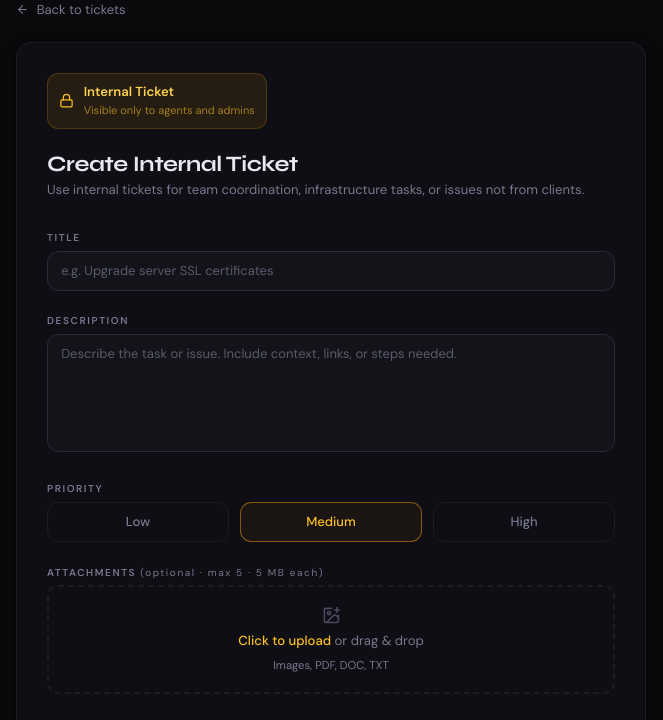
Test: InternalTicketPage — validation › shows 'Please provide more detail' for short description
The image size is (663, 720).
Type "Valid title here" into the field with placeholder "e.g. Upgrade server SSL certificates" at {"x": 331, "y": 271}, box 47,251 -> 615,291
(page scrolled)
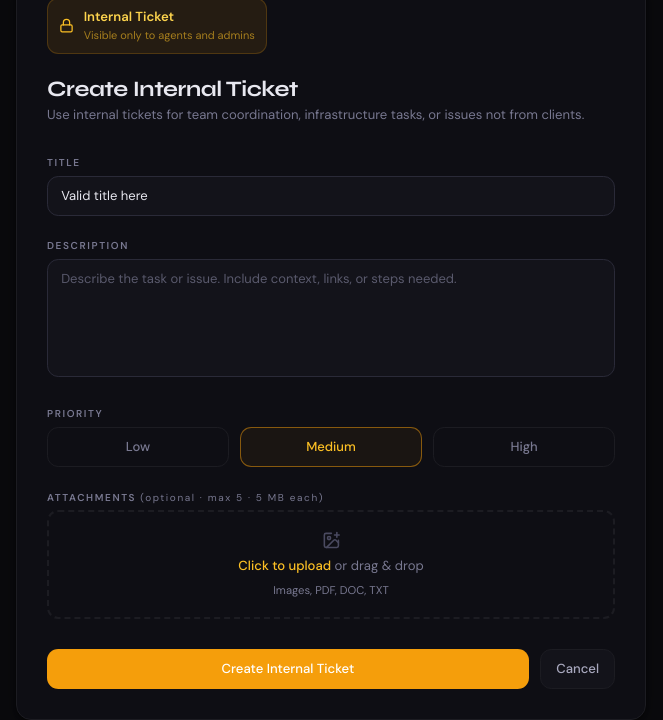
Click the button "Create Internal Ticket" at {"x": 288, "y": 669}, box 47,649 -> 529,689
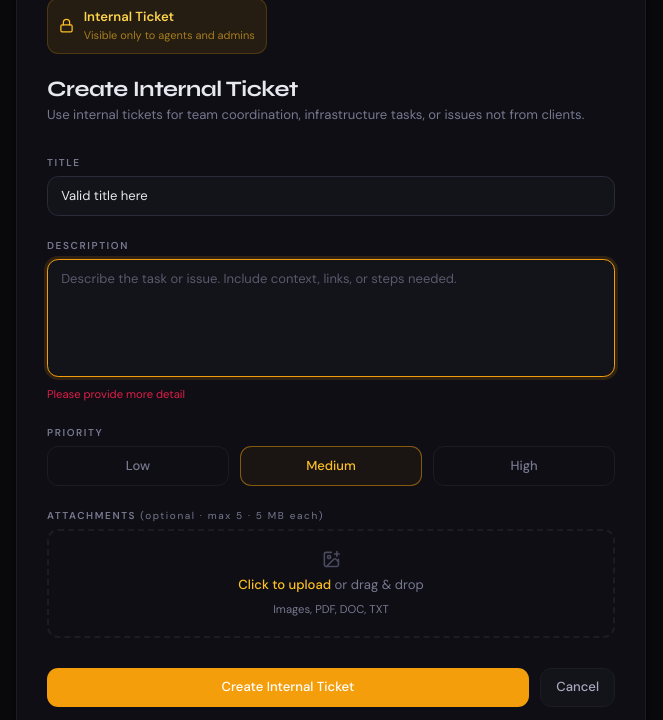
Expected: the text "Please provide more detail" is shown, 47,388 -> 185,402
